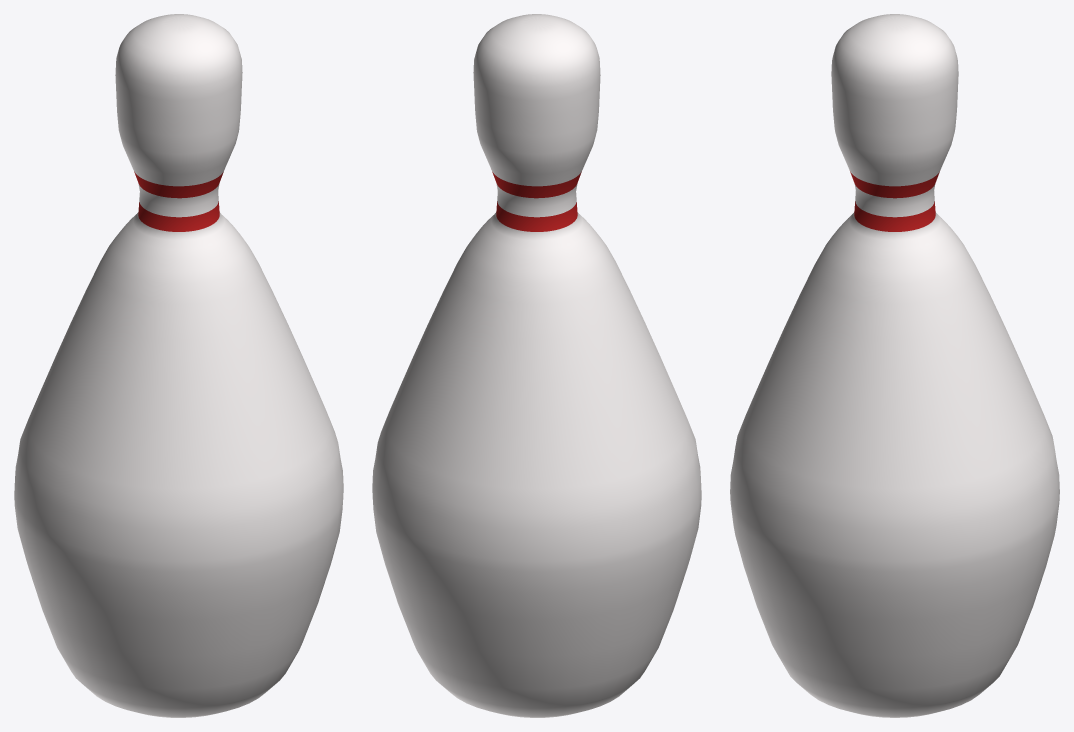
The model's file is bowlingPin.fbx.
The picture shows the model from 3 angles, left to right: view 1: azimuth 30°, elevation 25°; view 2: azimuth 150°, elevation 25°; view 3: azimuth 270°, elevation 25°; orthographic projection.
Visible parts, largest first — view 1: pCylinder1; view 2: pCylinder1; view 3: pCylinder1.
Part boxes in pixels (x1=…): pCylinder1: x1=14, y1=14, x2=343, y2=717; pCylinder1: x1=372, y1=14, x2=701, y2=717; pCylinder1: x1=730, y1=14, x2=1059, y2=717.
Bounding box in the file's own units: 3.8 × 8.53 × 3.8.
Materials: 1 (1 with a texture image).
